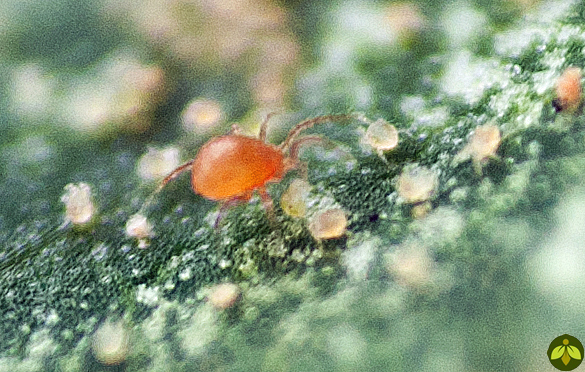Mites: (176, 106, 322, 227)
